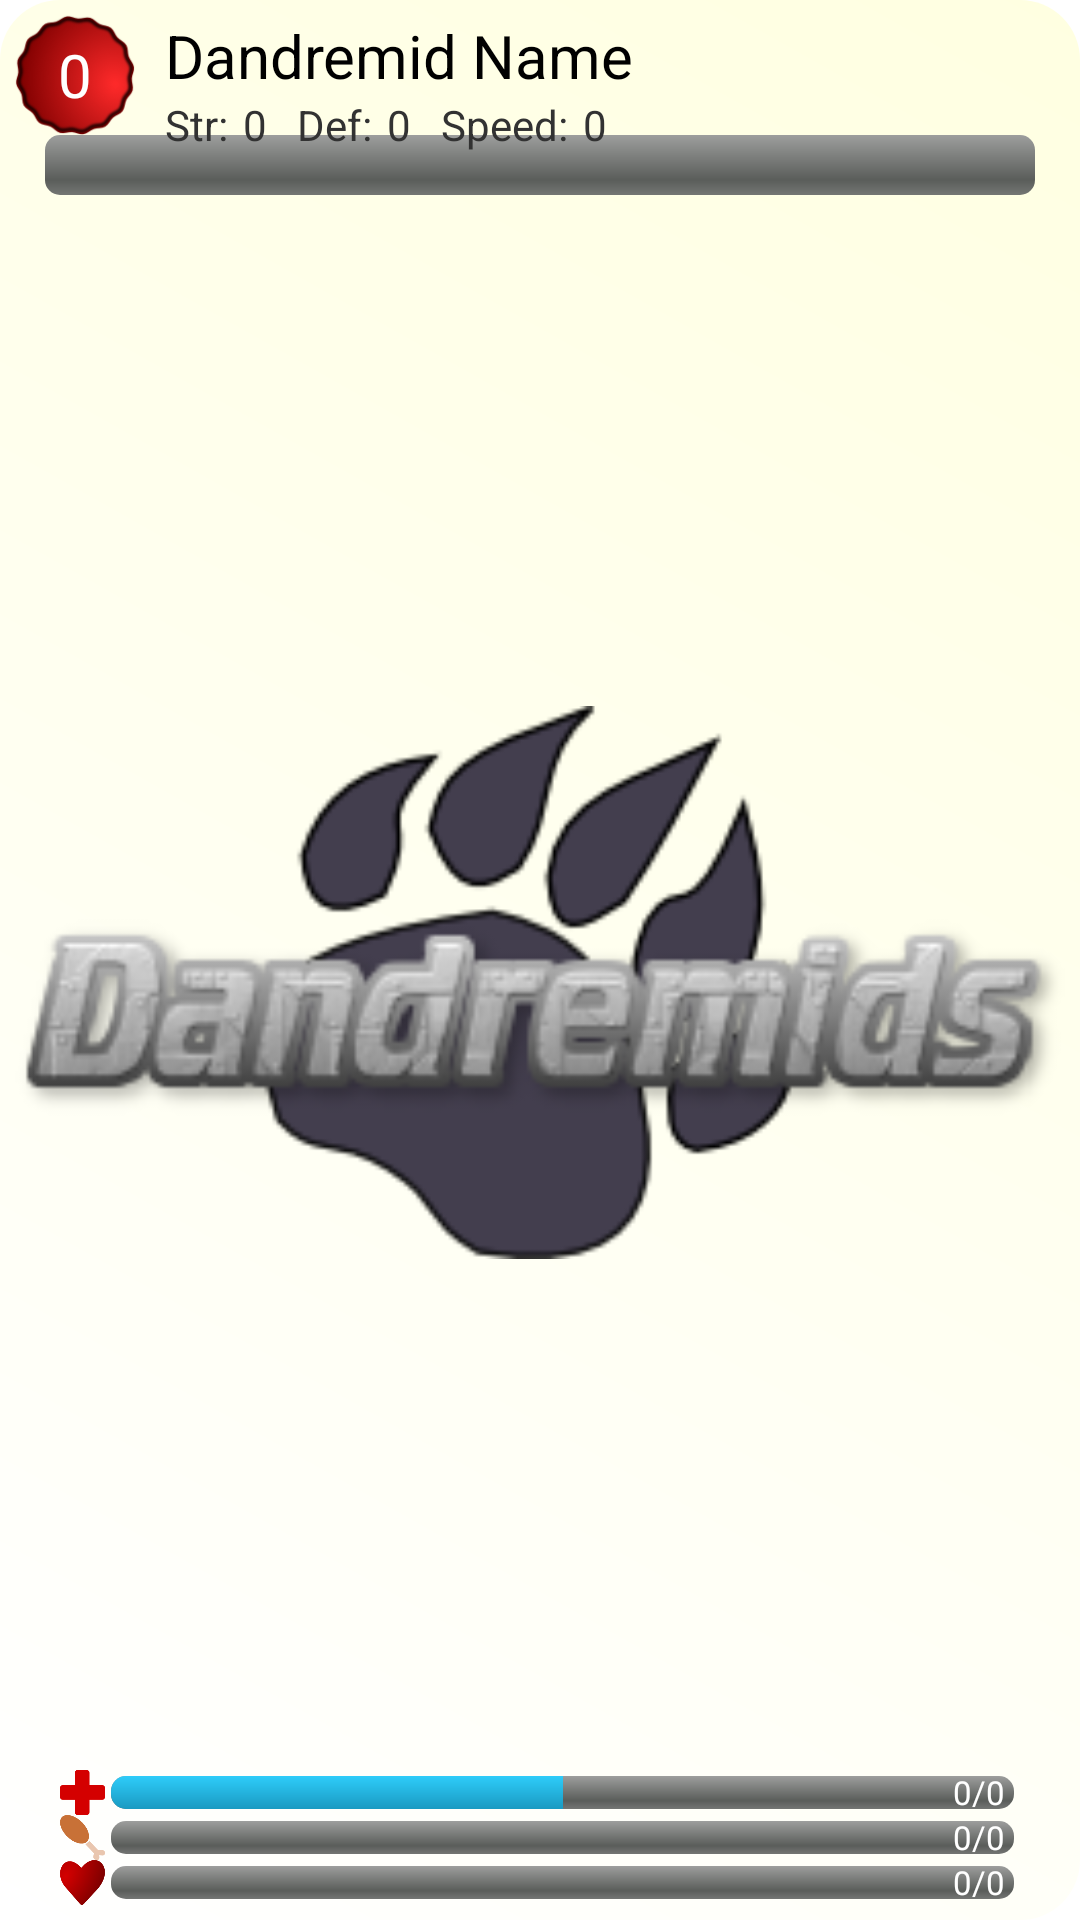

Screen size 1080 × 1920. Icon name, then its center in pixels as (x=x, y=y):
food: (x=82, y=1837)
happiness: (x=82, y=1882)
health: (x=82, y=1792)
